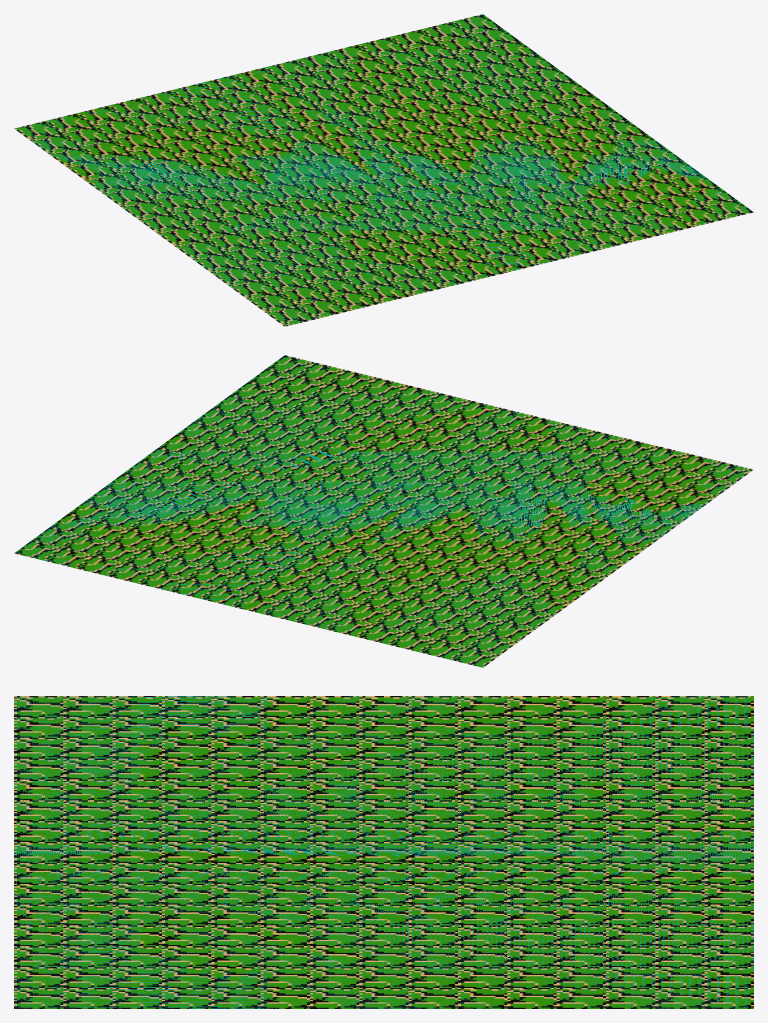
The model's file is Dungeon Floor.fbx.
3 renders of one model, top to bottom at view 1: azimuth 30°, elevation 25°; view 2: azimuth 150°, elevation 25°; view 3: azimuth 270°, elevation 25°, orthographic. The views are drawn at different scales.
Parts seen in each view (by area): view 1: group_0; view 2: group_0; view 3: group_0.
Boxes of the visible parts, x1,y1,x2,y2 form: group_0: (14,14,753,326); group_0: (14,355,753,667); group_0: (14,696,753,1008).
Size of the model in its own units: 1500 by 0.000244 by 1500.
